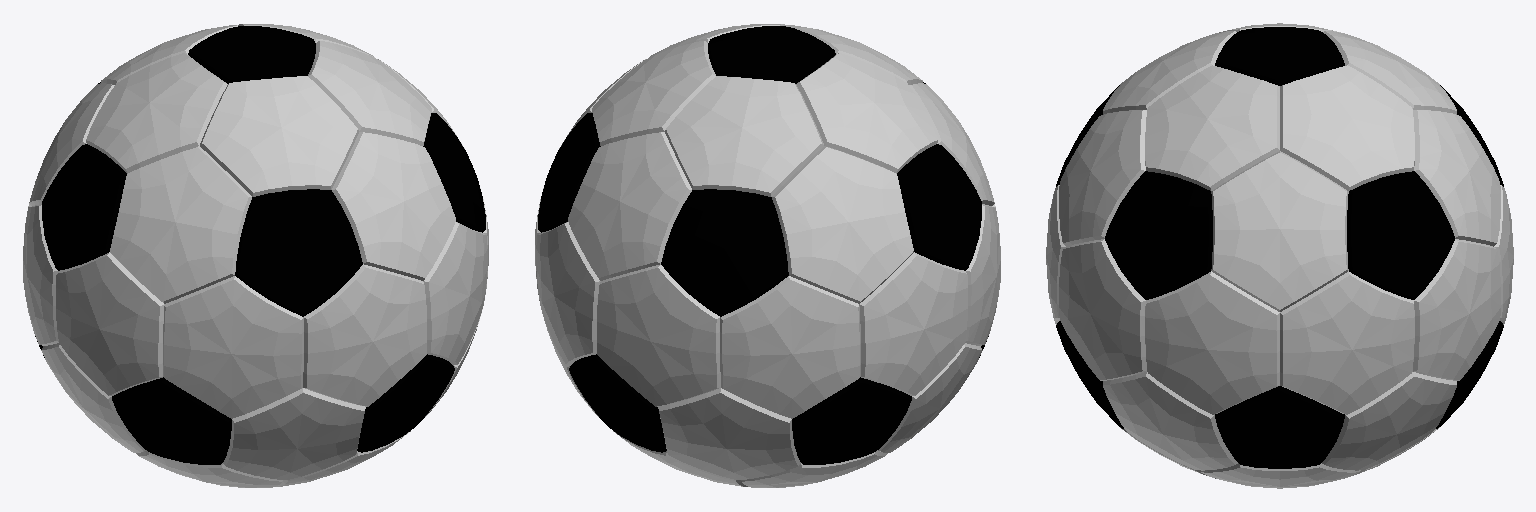
Rendered from football.obj.
3 views of the same model, side by side, from view 1: azimuth 30°, elevation 25°; view 2: azimuth 150°, elevation 25°; view 3: azimuth 270°, elevation 25° (orthographic).
Visible parts, largest first — view 1: Football; view 2: Football; view 3: Football.
Part boxes in pixels (x1,y1,x2,y2): Football: (23,24,488,487); Football: (535,24,1000,487); Football: (1046,23,1513,488).
Size of the model in its own units: 0.231 by 0.2313 by 0.2319.